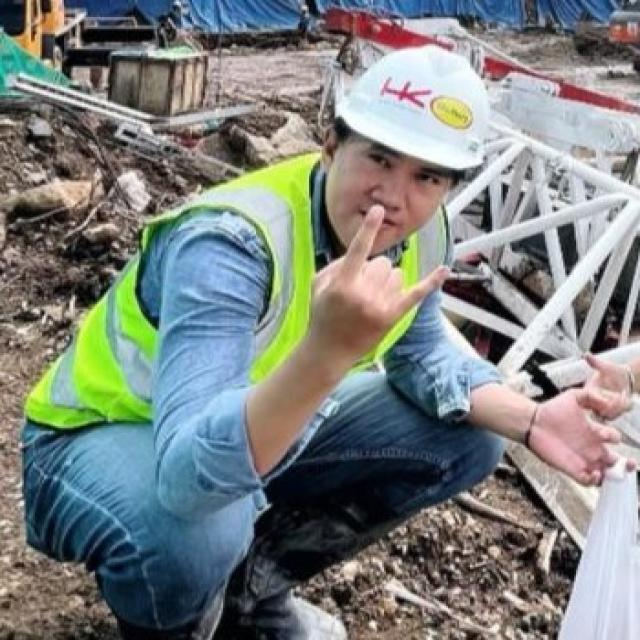safetyhelmet: (336, 44, 492, 215)
